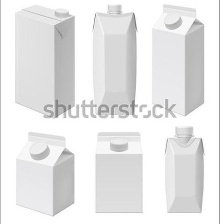carton: (8, 3, 78, 120), (149, 3, 215, 116), (12, 130, 80, 218), (88, 4, 140, 119), (88, 128, 147, 214), (162, 121, 209, 214)
